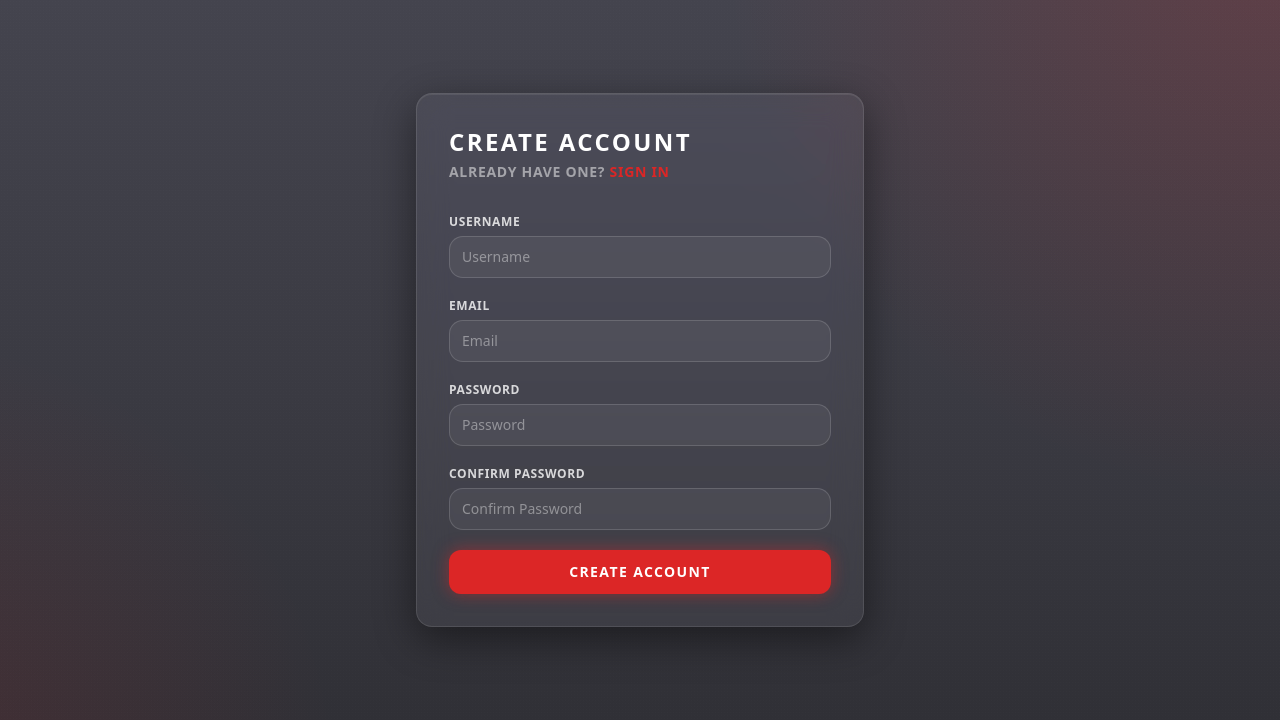
Scenario: Register page › loading state › shows "Creating account..." while the request is in flight
Step 1. Type "ash" into the field labelled "Username" → (640, 257), box [449, 236, 831, 278]
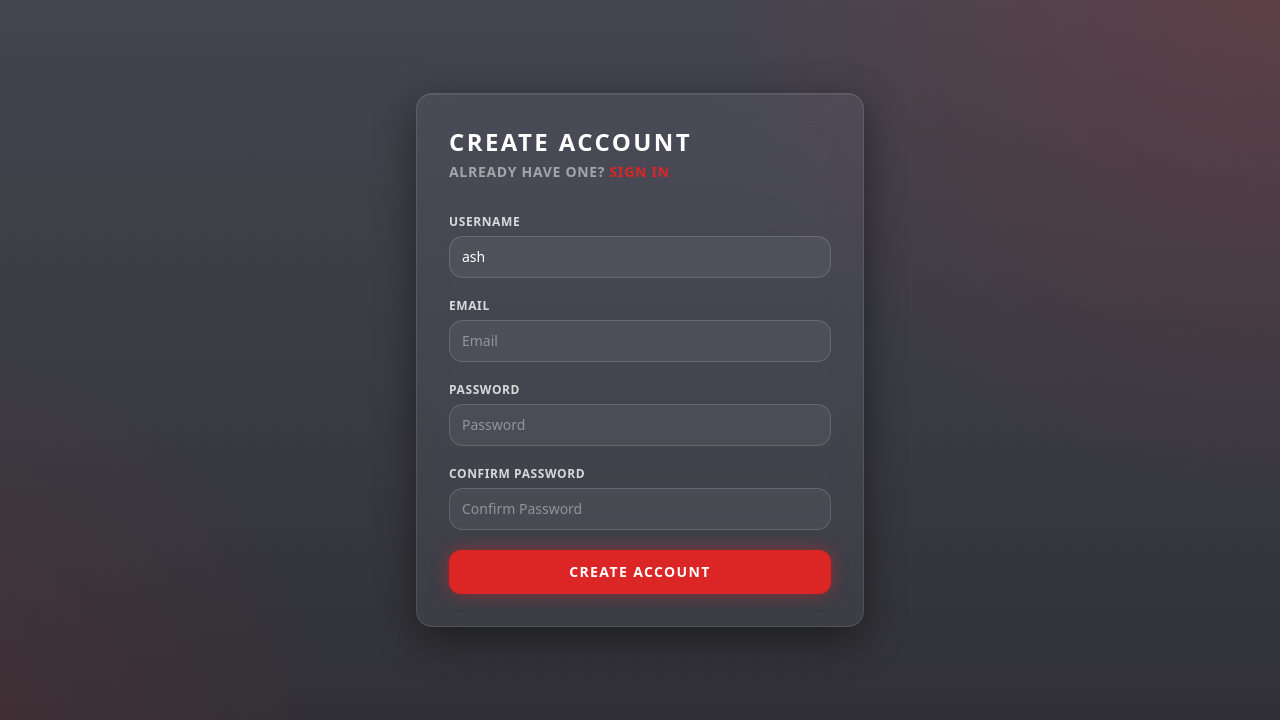
Step 2. Type "ash@pallet.com" into the field labelled "Email" → (640, 341), box [449, 320, 831, 362]
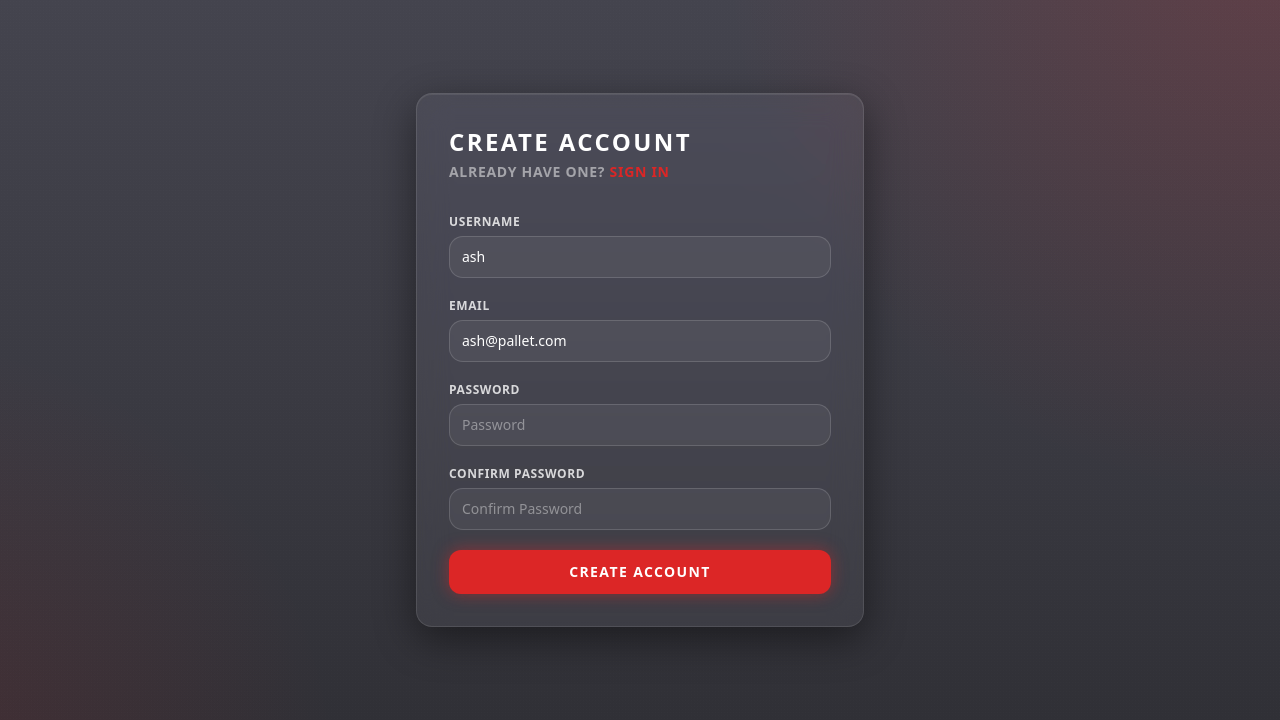
Step 3. Type "pikachu1" into the password field labelled "Password" → (640, 425), box [449, 404, 831, 446]
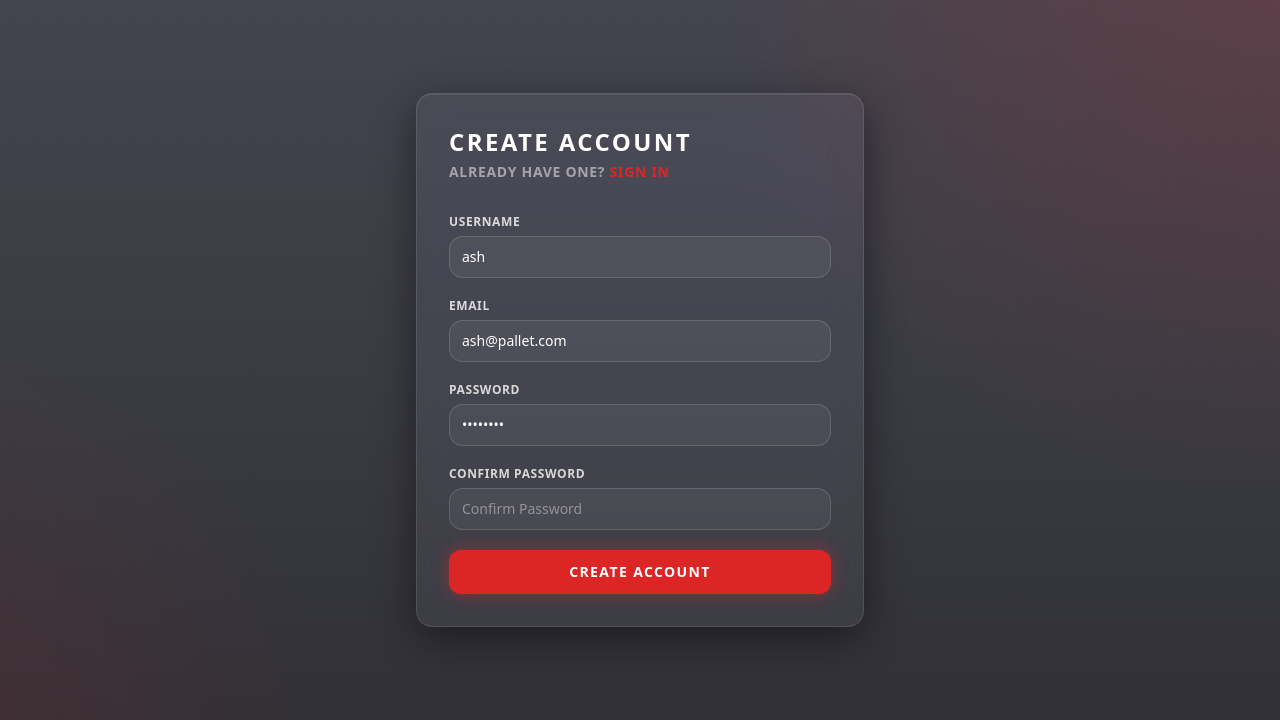
Step 4. Type "pikachu1" into the password field labelled "Confirm Password" → (640, 509), box [449, 488, 831, 530]
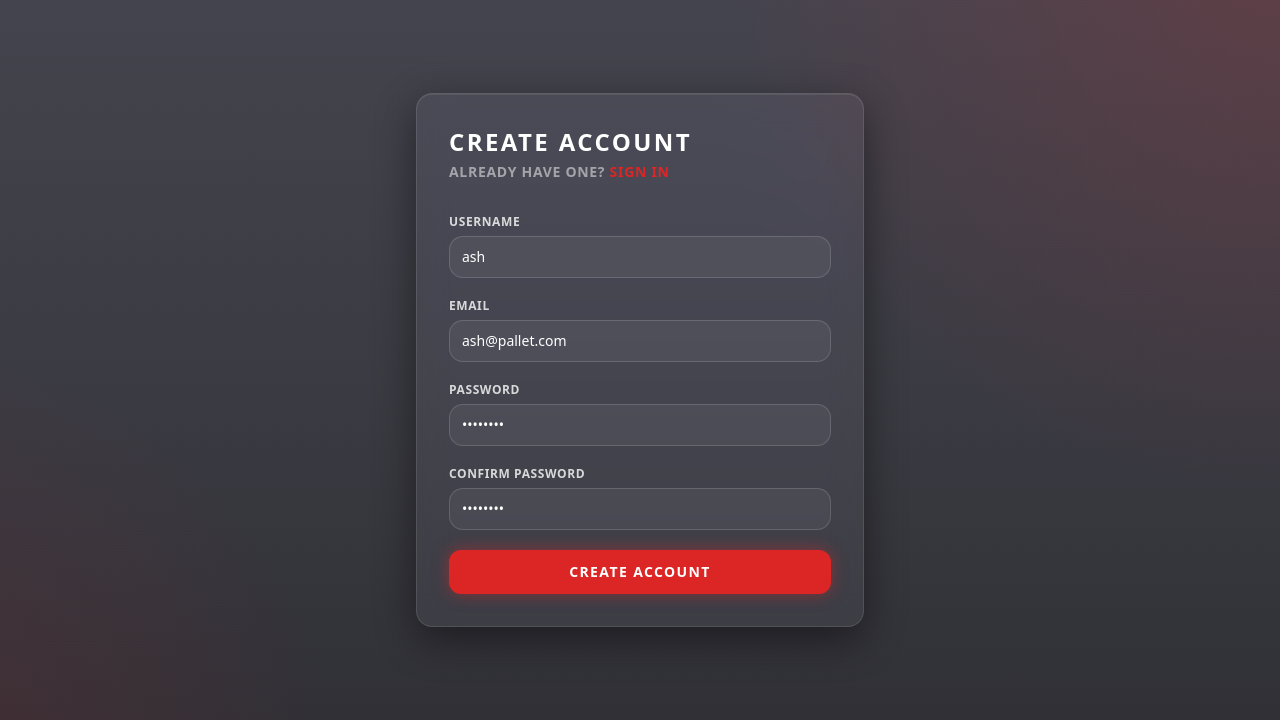
Step 5. Click the button "Create Account" → (640, 572), box [449, 550, 831, 594]
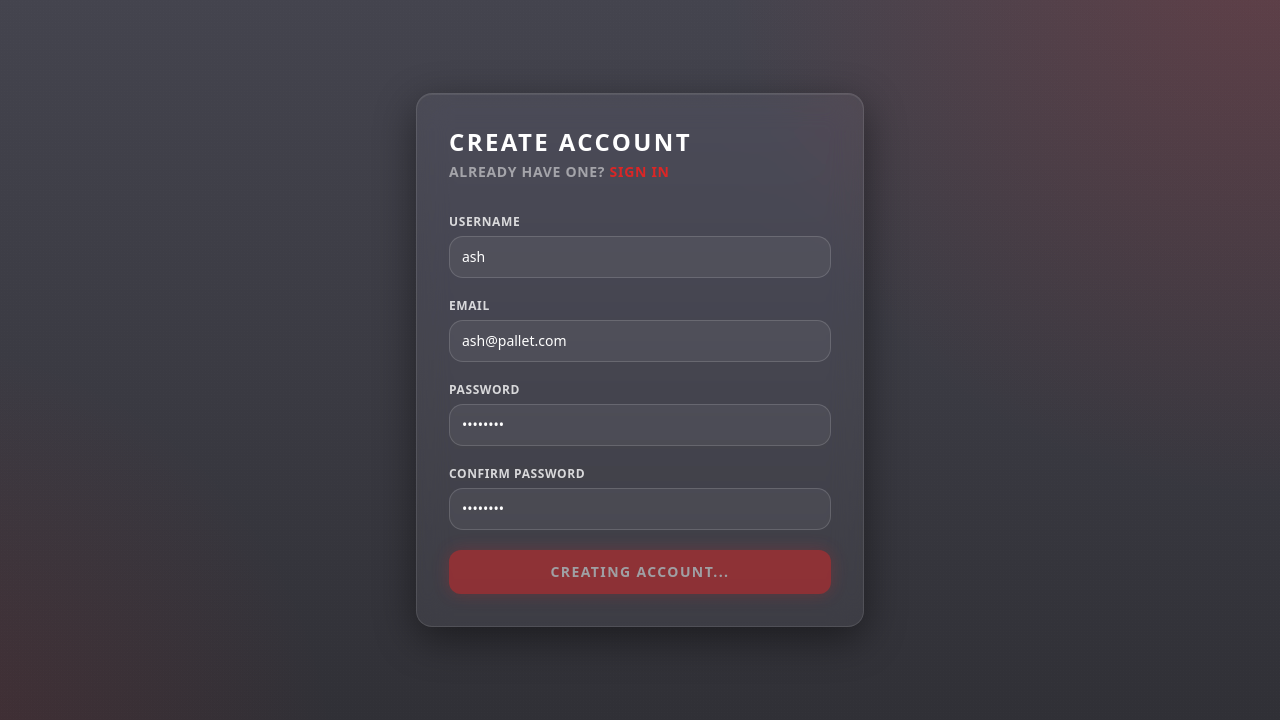
Check: the button reads "Creating account...", box [449, 550, 831, 594]
